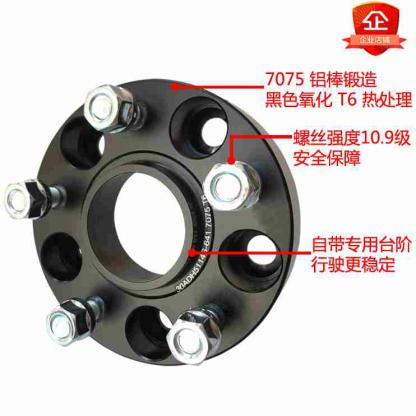FOD: (25, 74, 305, 366)
